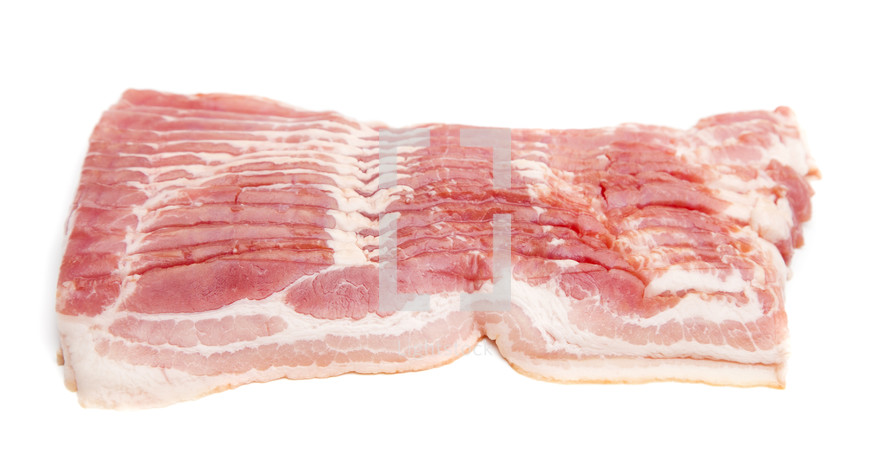bacon: (65, 81, 818, 392), (154, 155, 534, 296)
